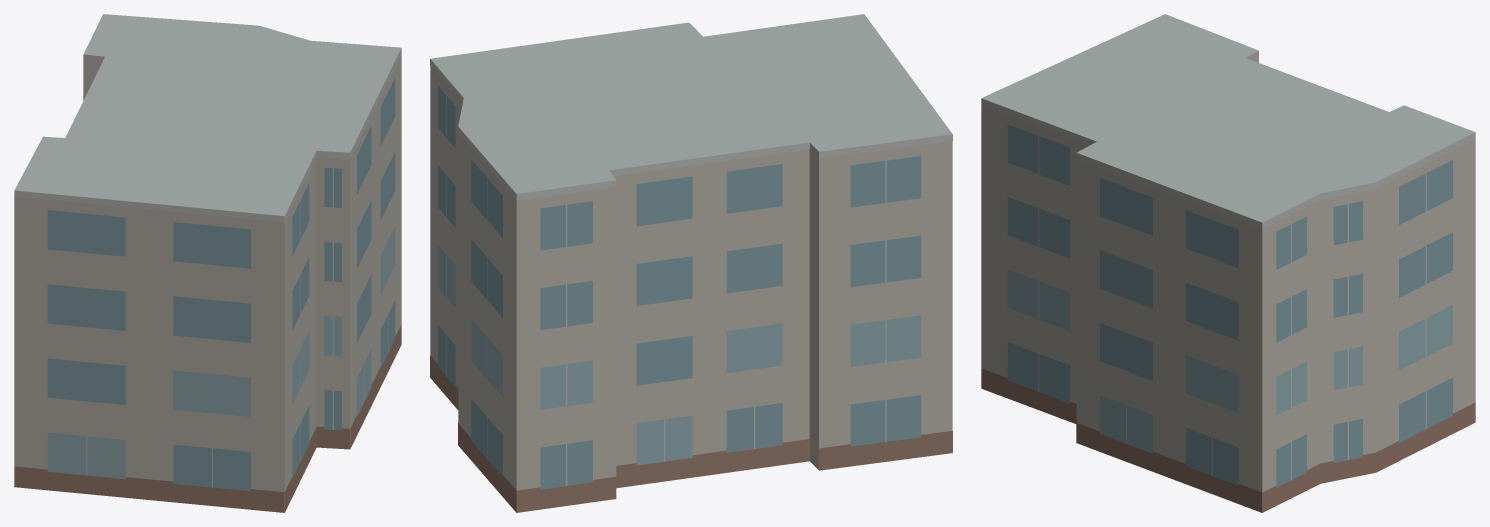
File: survey-upis-32477192.glb
3 views of the same model, side by side, from view 1: azimuth 30°, elevation 25°; view 2: azimuth 150°, elevation 25°; view 3: azimuth 270°, elevation 25° (orthographic). The views are drawn at different scales.
Parts seen in each view (by area): view 1: survey-upis-32477192.tmp; view 2: survey-upis-32477192.tmp; view 3: survey-upis-32477192.tmp.
Part boxes in pixels (x1,y1,x2,y2): survey-upis-32477192.tmp: (14,14,401,512); survey-upis-32477192.tmp: (430,14,952,512); survey-upis-32477192.tmp: (981,14,1475,512).
Size of the model in its own units: 17.88 by 11.6 by 17.91.
